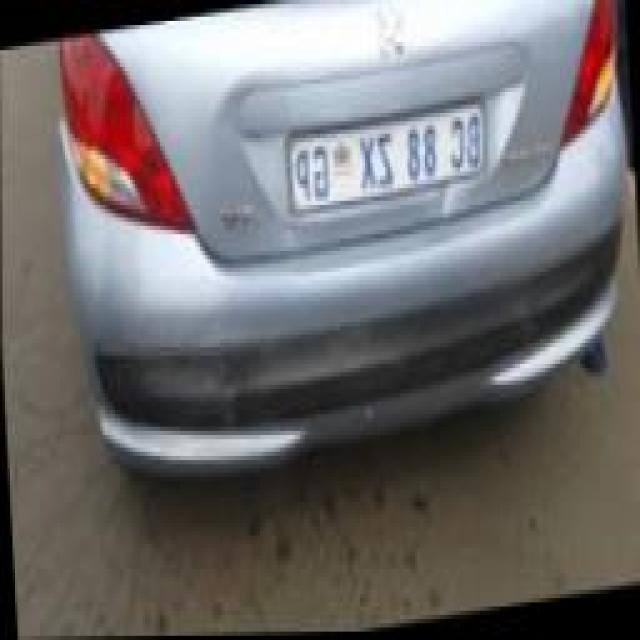Bumper: (22, 180, 626, 501)
